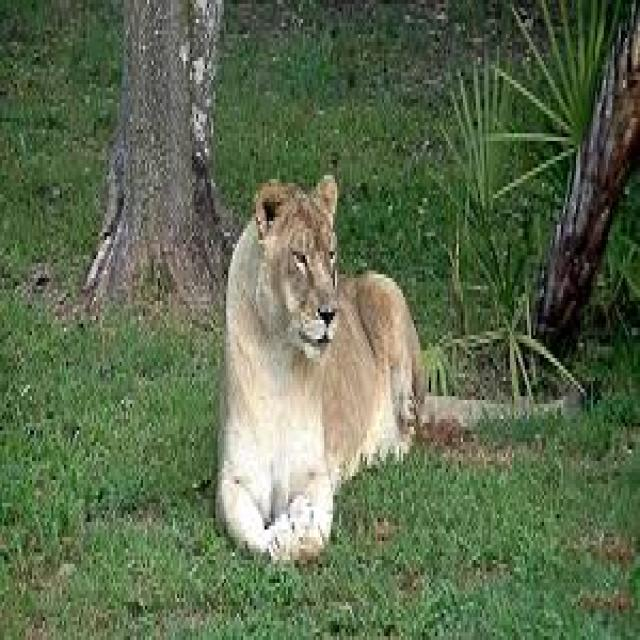Lion: (211, 174, 426, 569)
